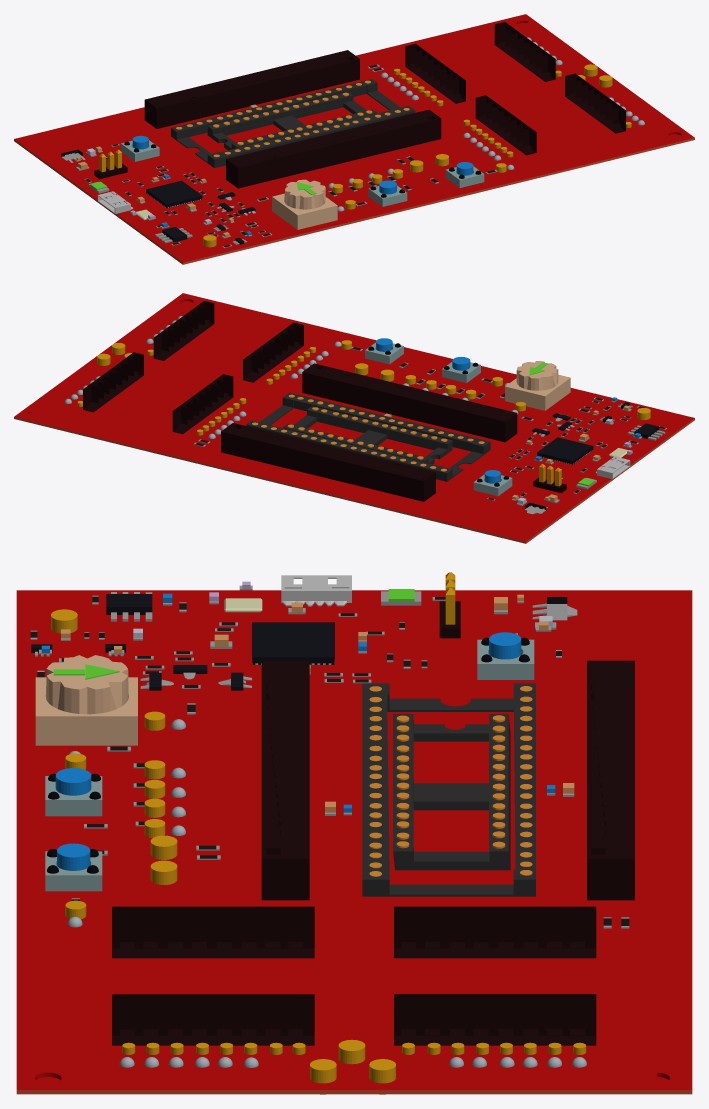
Rendered from 8bitHPC.fbx.
The picture shows the model from 3 angles, top to bottom: view 1: azimuth 30°, elevation 25°; view 2: azimuth 150°, elevation 25°; view 3: azimuth 270°, elevation 25°; orthographic projection. The views are drawn at different scales.
Visible parts, largest first — view 1: BoardBase, HeaderBottom, HeaderTop, Dip40, Dip28, HeaderClickBotLeft, HeaderClickTopRight, HeaderClickTopLeft, HeaderClickBotRight.001, PotBase, PotDial, Pic (+6 smaller); view 2: BoardBase, HeaderBottom, HeaderTop, Dip40, Dip28, HeaderClickTopLeft, HeaderClickBotRight.001, HeaderClickBotLeft, HeaderClickTopRight, PotBase, PotDial, Pic (+5 smaller); view 3: BoardBase, HeaderBottom, Dip40, HeaderTop, HeaderClickBotLeft, HeaderClickTopLeft, HeaderClickTopRight, HeaderClickBotRight.001, Dip28, HeaderClickBotRight, PotBase, PotDial (+9 smaller).
Part boxes in pixels (x1=…): BoardBase: x1=14, y1=14, x2=694, y2=264; HeaderBottom: x1=226, y1=109, x2=441, y2=188; HeaderTop: x1=144, y1=50, x2=359, y2=128; Dip40: x1=171, y1=79, x2=415, y2=168; Dip28: x1=207, y1=92, x2=377, y2=150; HeaderClickBotLeft: x1=475, y1=95, x2=536, y2=155; HeaderClickTopRight: x1=494, y1=22, x2=555, y2=81; HeaderClickTopLeft: x1=405, y1=43, x2=465, y2=103; HeaderClickBotRight.001: x1=565, y1=73, x2=625, y2=133; PotBase: x1=272, y1=193, x2=337, y2=229; PotDial: x1=284, y1=179, x2=325, y2=209; Pic: x1=146, y1=180, x2=202, y2=207; BoardBase: x1=14, y1=293, x2=694, y2=543; HeaderBottom: x1=302, y1=363, x2=517, y2=442; HeaderTop: x1=221, y1=423, x2=435, y2=501; Dip40: x1=246, y1=392, x2=490, y2=481; Dip28: x1=283, y1=406, x2=452, y2=464; HeaderClickTopLeft: x1=172, y1=374, x2=233, y2=434; HeaderClickBotRight.001: x1=153, y1=301, x2=214, y2=360; HeaderClickBotLeft: x1=243, y1=322, x2=303, y2=382; HeaderClickTopRight: x1=83, y1=352, x2=143, y2=412; PotBase: x1=505, y1=374, x2=570, y2=410; PotDial: x1=516, y1=361, x2=558, y2=390; Pic: x1=537, y1=437, x2=593, y2=464; BoardBase: x1=16, y1=590, x2=692, y2=1094; HeaderBottom: x1=261, y1=660, x2=309, y2=900; Dip40: x1=362, y1=683, x2=535, y2=896; HeaderTop: x1=587, y1=660, x2=634, y2=900; HeaderClickBotLeft: x1=112, y1=906, x2=314, y2=958; HeaderClickTopLeft: x1=394, y1=906, x2=596, y2=958; HeaderClickTopRight: x1=394, y1=994, x2=596, y2=1045; HeaderClickBotRight.001: x1=112, y1=994, x2=314, y2=1045; Dip28: x1=393, y1=714, x2=510, y2=870; HeaderClickBotRight: x1=112, y1=994, x2=314, y2=1036; PotBase: x1=35, y1=677, x2=137, y2=745; PotDial: x1=45, y1=655, x2=128, y2=714.
Size of the model in its own units: 300 by 19.04 by 171.
